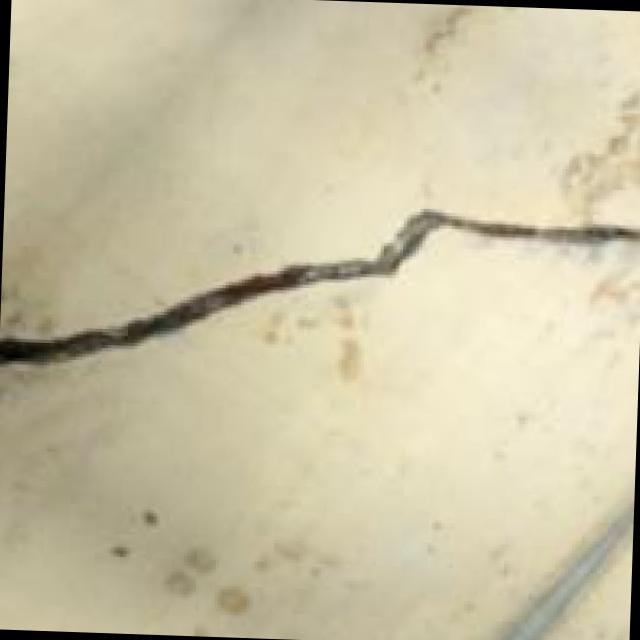crack: (0, 164, 640, 481)
